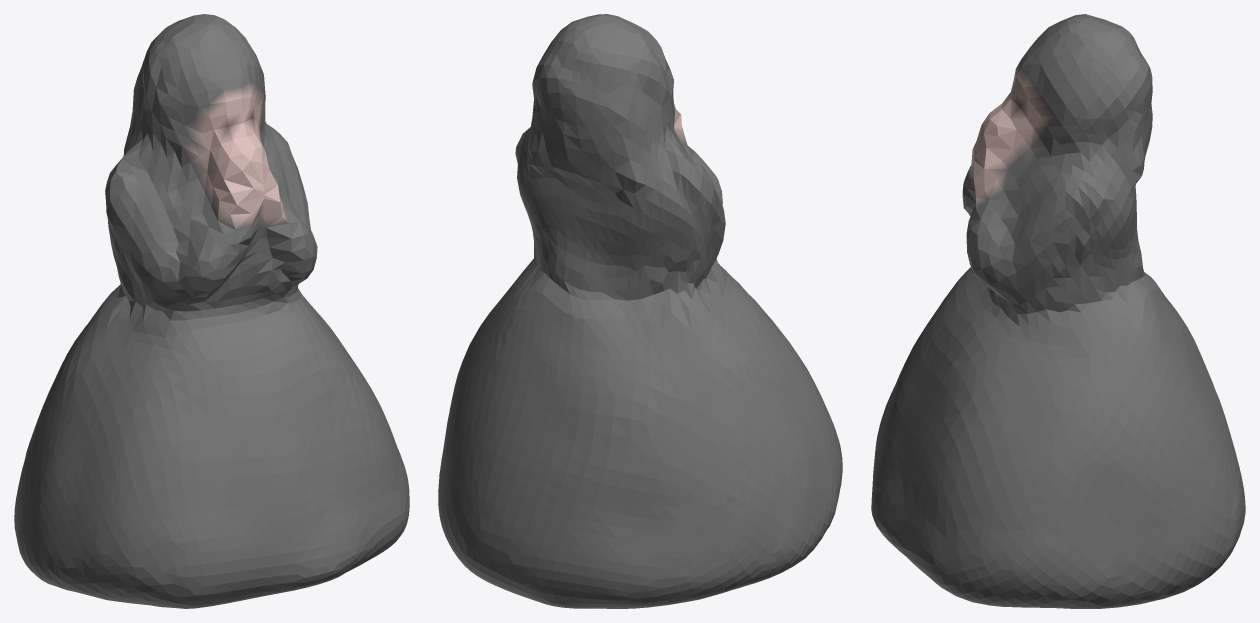
The model's file is Nun.glb.
3 renders of one model, left to right at view 1: azimuth 30°, elevation 25°; view 2: azimuth 150°, elevation 25°; view 3: azimuth 270°, elevation 25°, orthographic.
Parts seen in each view (by area): view 1: Sphere; view 2: Sphere; view 3: Sphere.
Boxes of the visible parts, x1,y1,x2,y2 form: Sphere: (14, 14, 409, 608); Sphere: (438, 14, 842, 608); Sphere: (871, 14, 1245, 608).
Bounding box in the file's own units: 1.37 × 1.99 × 1.24.
